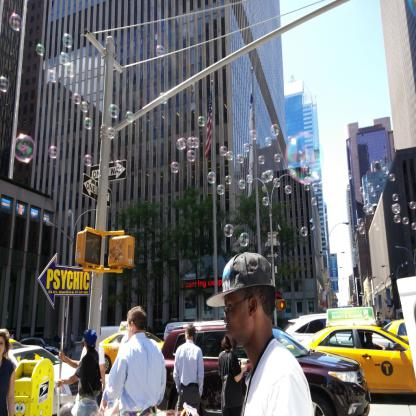Car: (302, 324, 416, 398), (7, 338, 81, 406), (81, 331, 163, 374), (378, 318, 412, 348)
